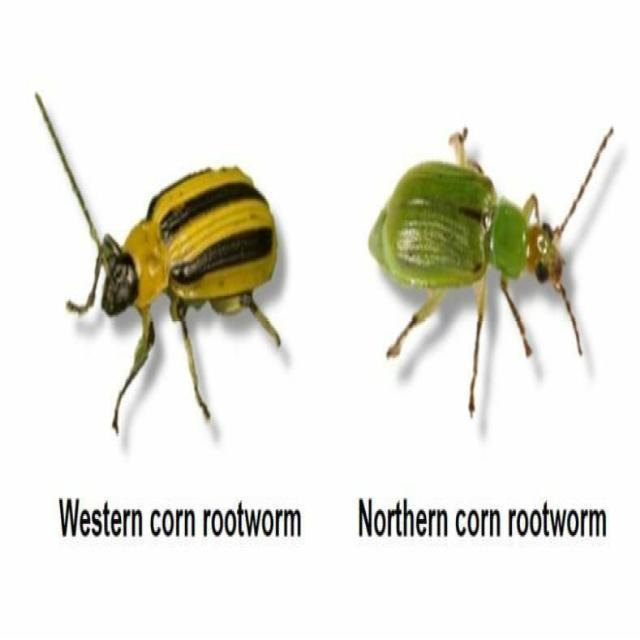gusano_gris: (368, 128, 615, 420)
trips: (34, 94, 286, 441)
